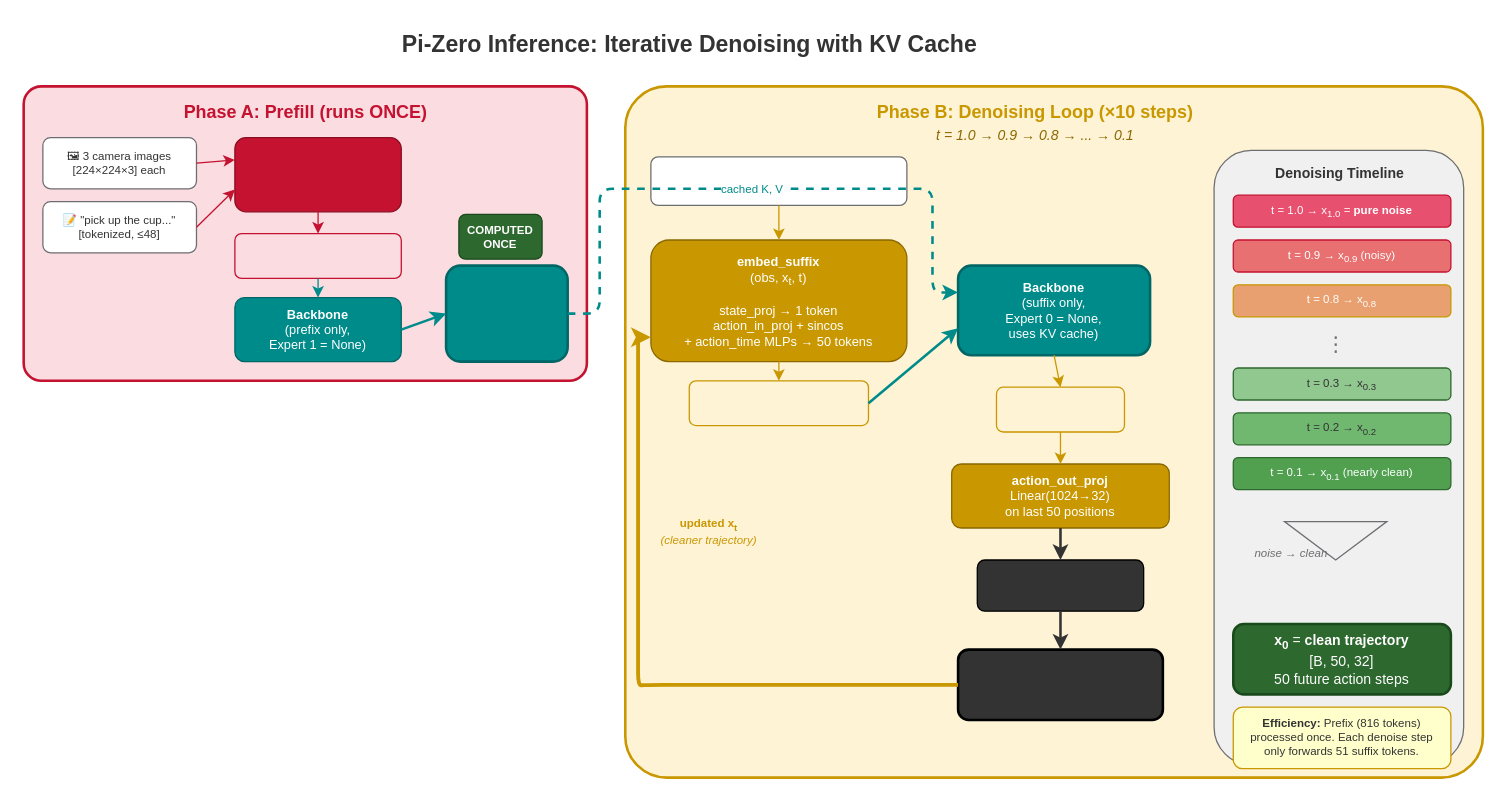
Some shapes in this 1505 by 800 pixel diagram are drawn without their labels. The shapes that lost their labels are listed below. From the top down, each one's centre as x and y in pixels, then its label:
At (317,174): "SigLIP ViT + PaliGemma Embedder".
At (778,180): "Initialize: x 1.0 = noise ~ N(0, I) [B, 50, 32]".
At (317,255): "prefix_tokens [B, 816, 2048]".
At (506,313): "KV Cache K: [18, B, 816, 1, 256] V: [18, B, 816, 1, 256]".
At (778,403): "suffix_tokens [B, 51, 1024]".
At (1059,409): "suffix_out [B, 51, 1024]".
At (1060,585): "v t (velocity field) [B, 50, 32]".
At (1060,684): "Euler Integration x t+dt = x t + dt · v t dt = −1/10 = −0.1".
